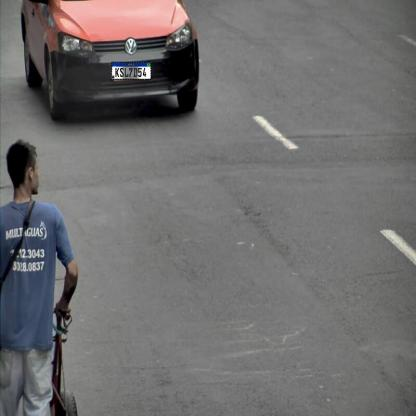PlacaM: (112, 62, 152, 80)
